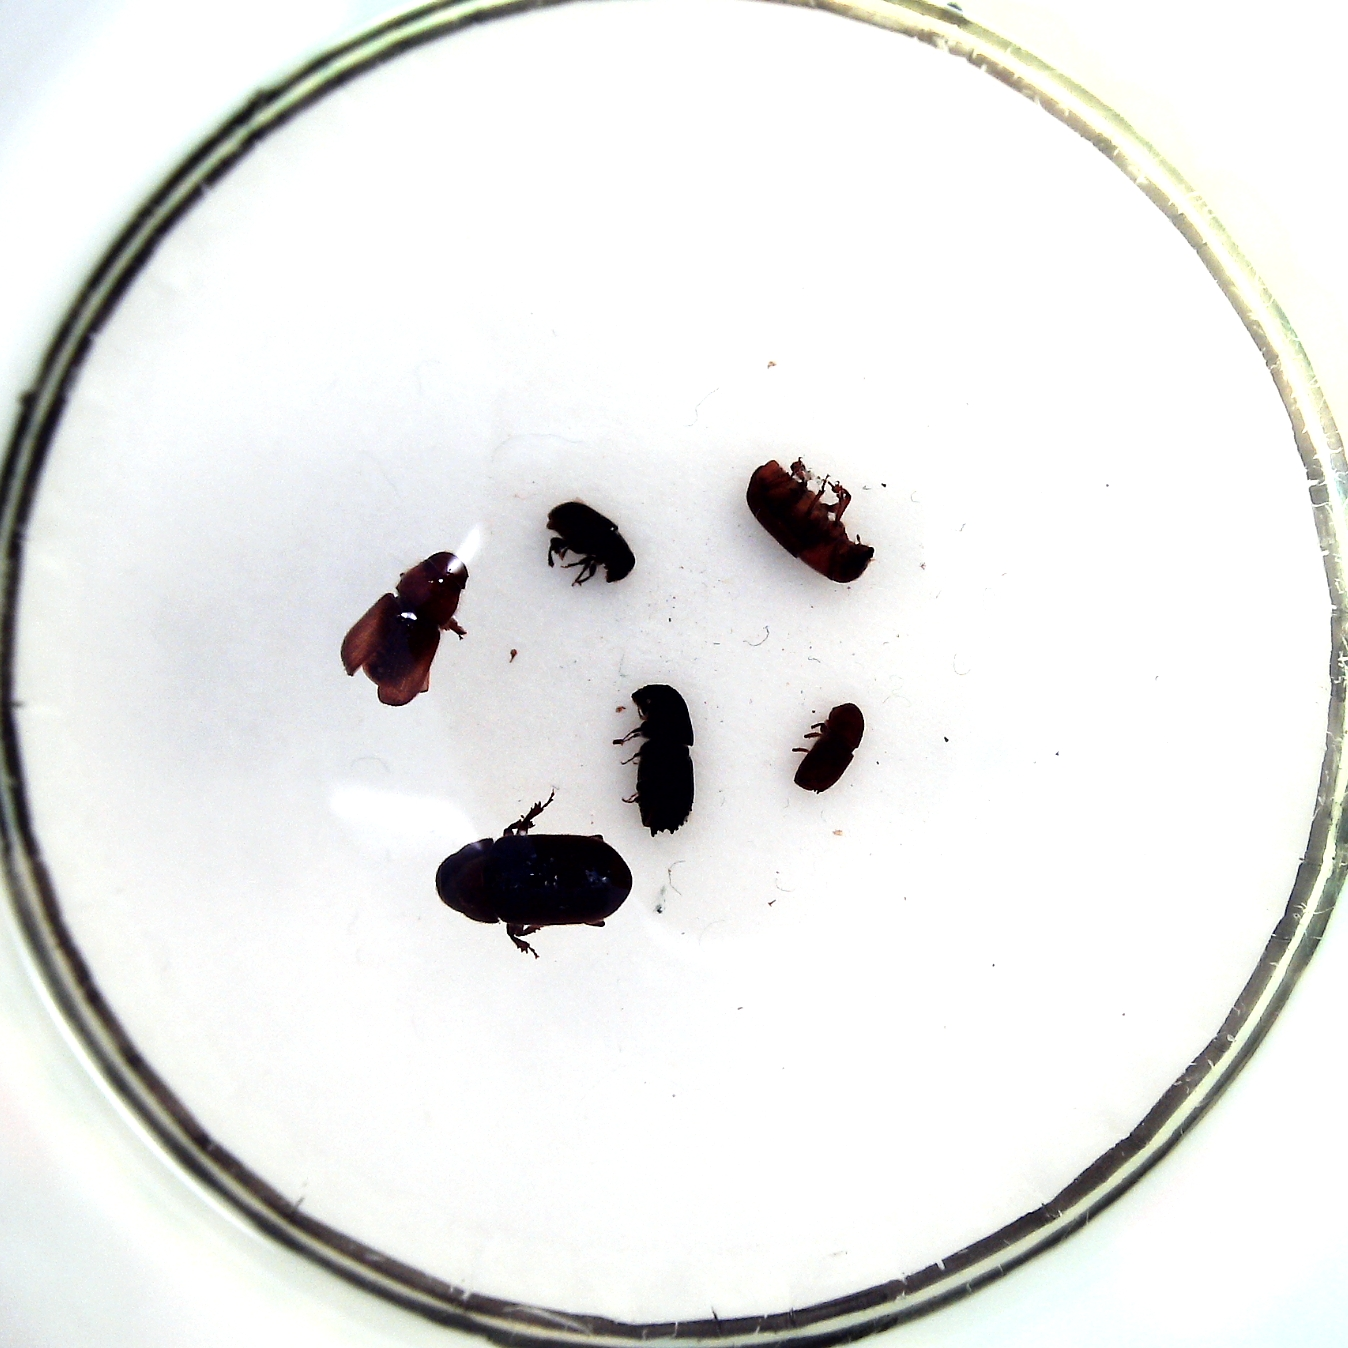Boerner: (631, 685, 695, 837)
Leconte: (339, 551, 469, 707), (433, 834, 632, 928), (746, 459, 875, 583)
armandi: (546, 501, 636, 583)
linnaeus: (793, 702, 865, 793)
